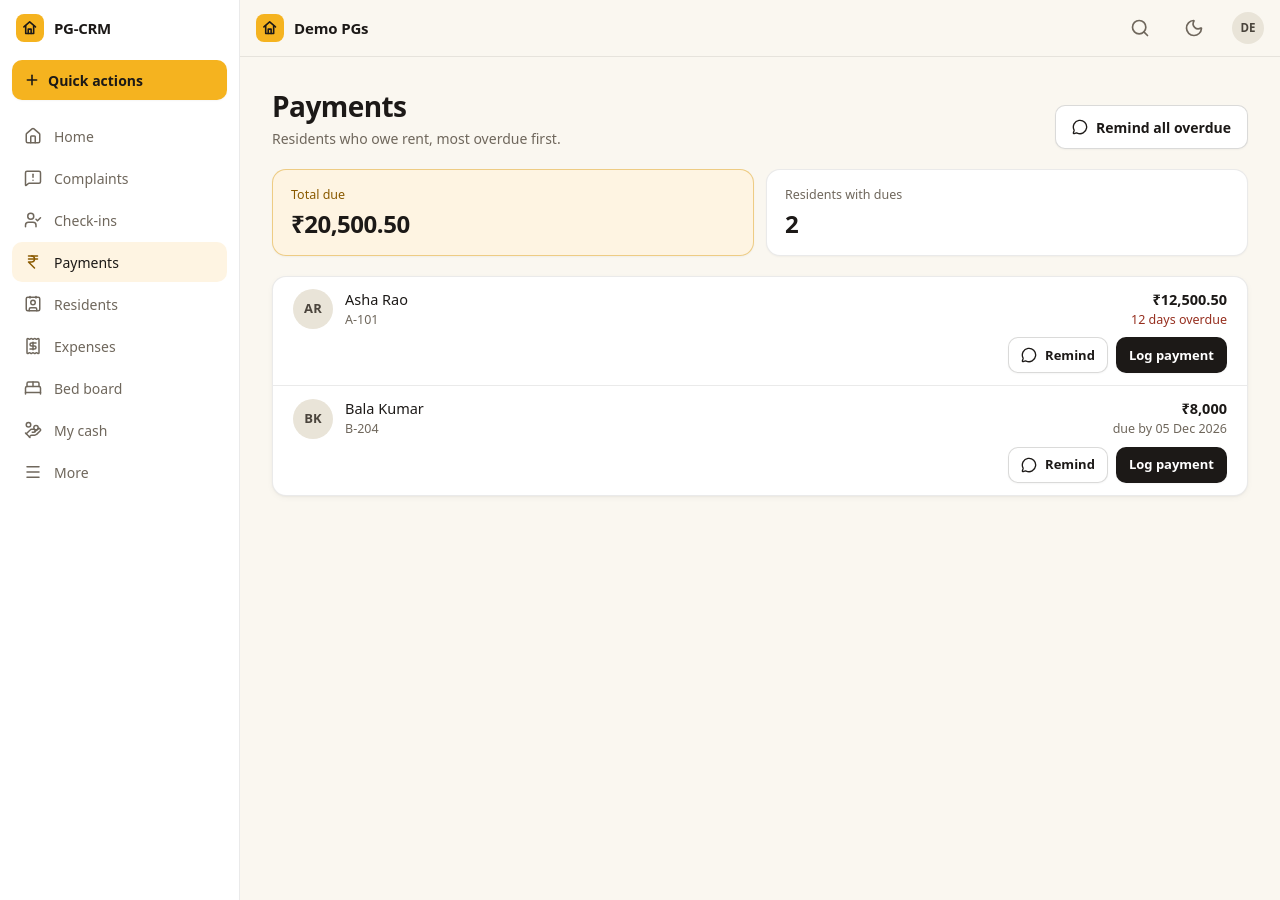
Test: Rent reminders › [FE-33/AC1] Send reminder opens the API whatsapp_url in a new tab
The image size is (1280, 900).
Click the button with aria-label "Send reminder to Asha Rao": click(1058, 355) left=1008, top=337, right=1108, bottom=373
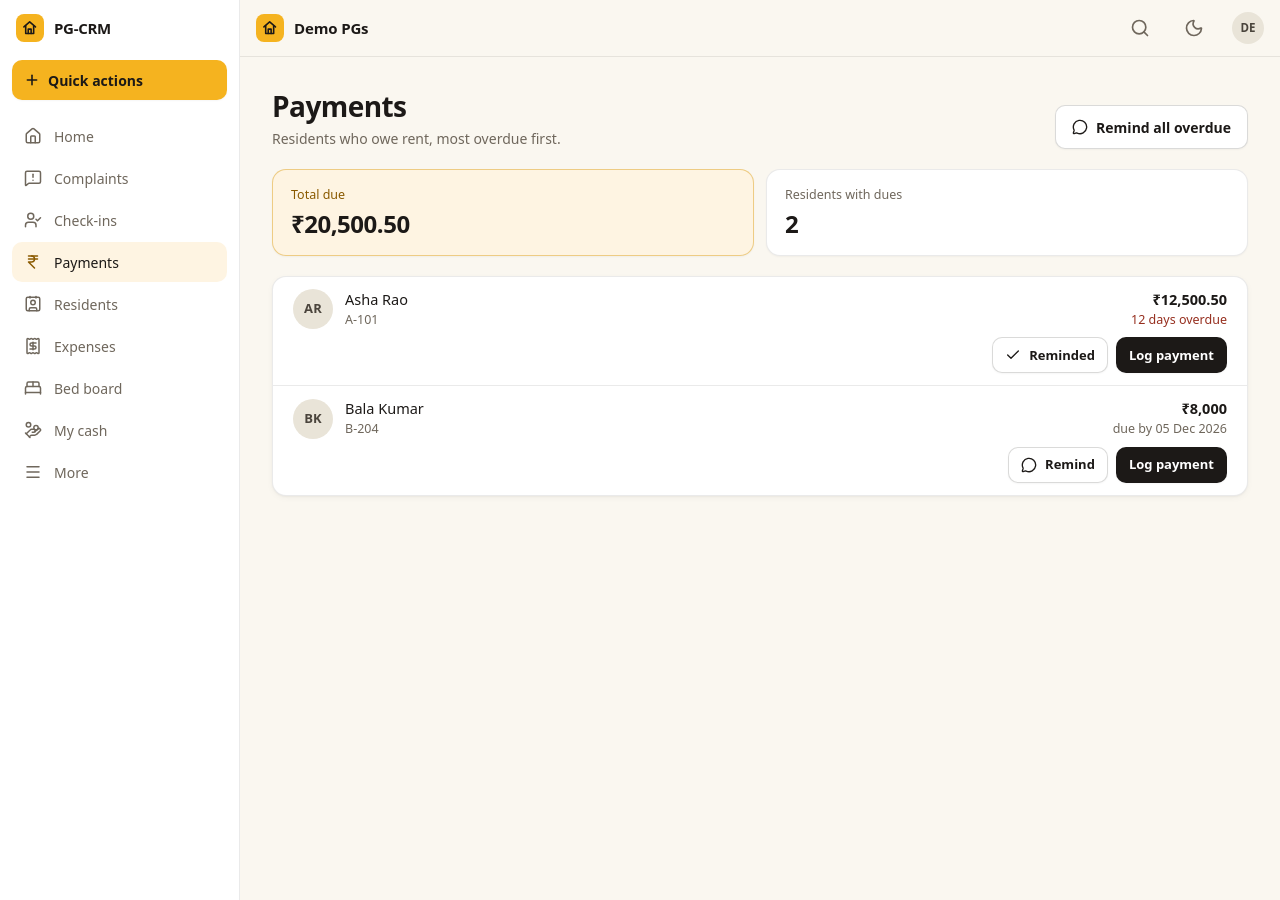
Check: the button with aria-label "Remind again Asha Rao" reads "Reminded", box left=992, top=337, right=1108, bottom=373
